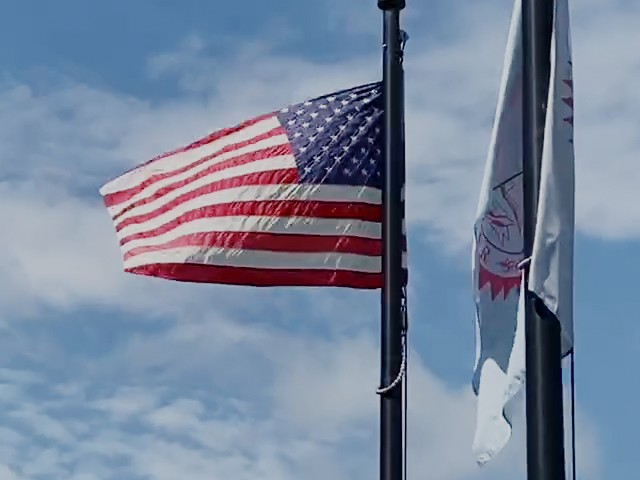America flag: (83, 69, 387, 293)
